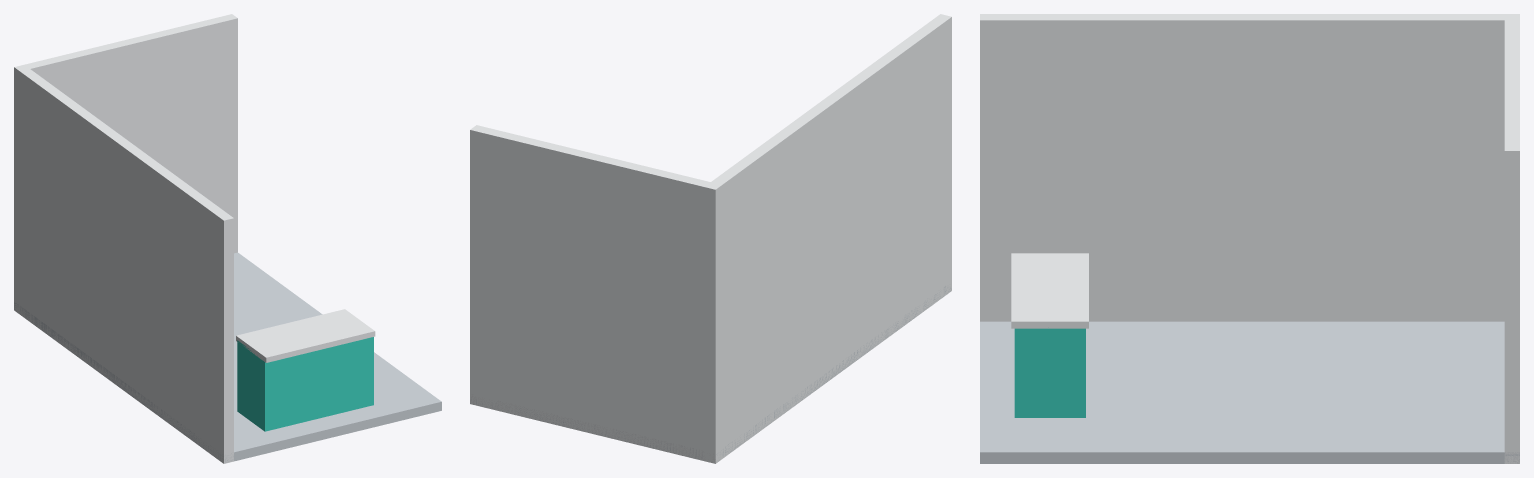
The picture shows the model from 3 angles, left to right: view 1: azimuth 30°, elevation 25°; view 2: azimuth 150°, elevation 25°; view 3: azimuth 270°, elevation 25°; orthographic projection. The views are drawn at different scales.
Parts seen in each view (by area): view 1: Exhibition Booth Concept; view 2: Exhibition Booth Concept; view 3: Exhibition Booth Concept.
Part boxes in pixels (bbox=[...]): Exhibition Booth Concept: bbox=[14, 14, 441, 463]; Exhibition Booth Concept: bbox=[470, 14, 951, 463]; Exhibition Booth Concept: bbox=[980, 14, 1519, 463].
Size of the model in its own units: 3 by 3.2 by 5.
